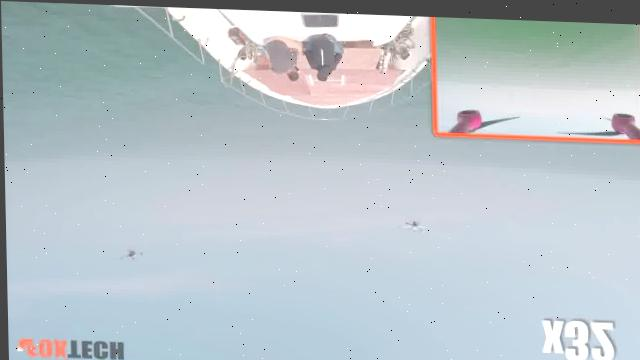drone: (393, 210, 430, 233), (111, 242, 146, 265)
